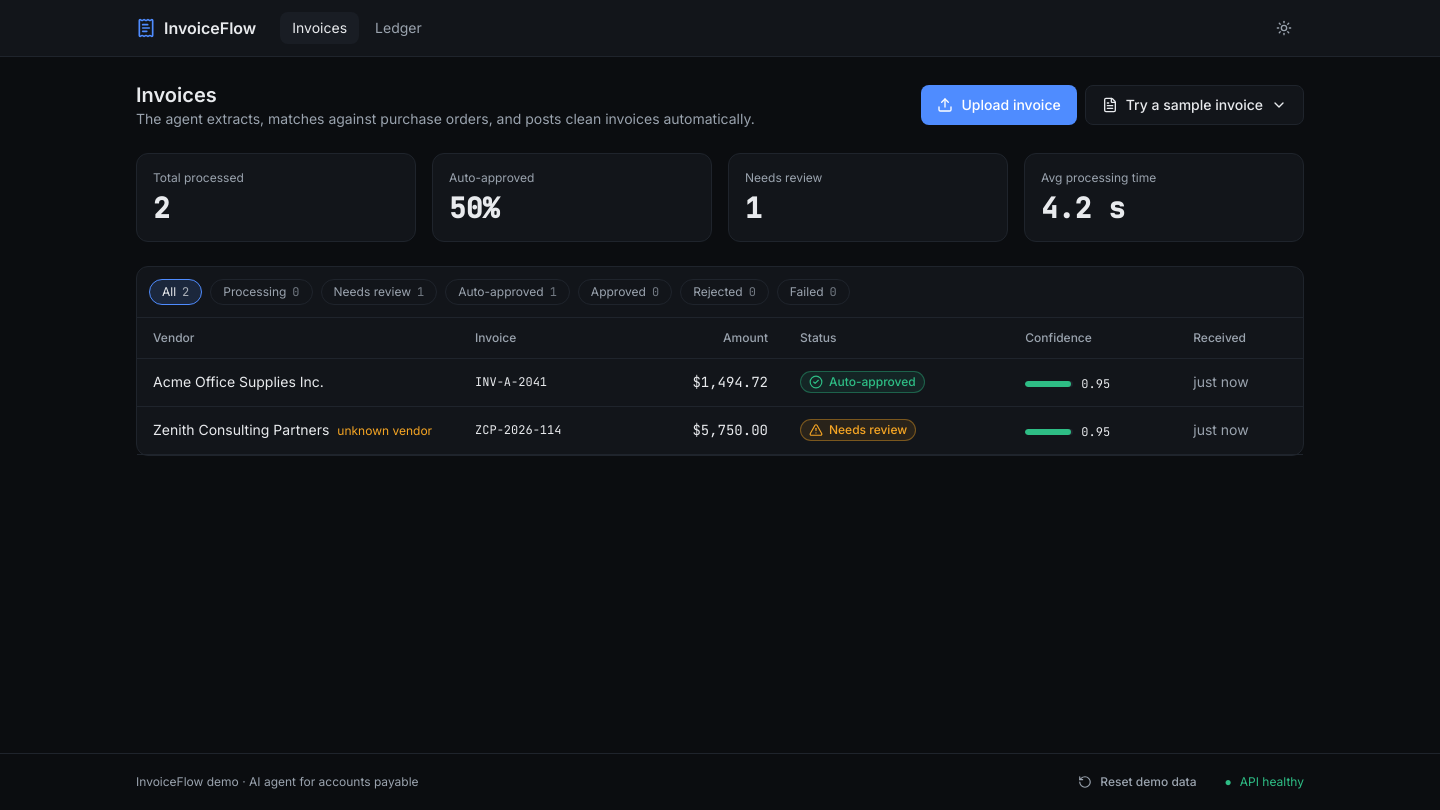
Test case: Dashboard › resets the demo data after confirmation
This screenshot has width=1440, height=810.
Step 1. Click the button "Reset demo data" → {"x": 1138, "y": 782}, box [1066,766,1209,798]
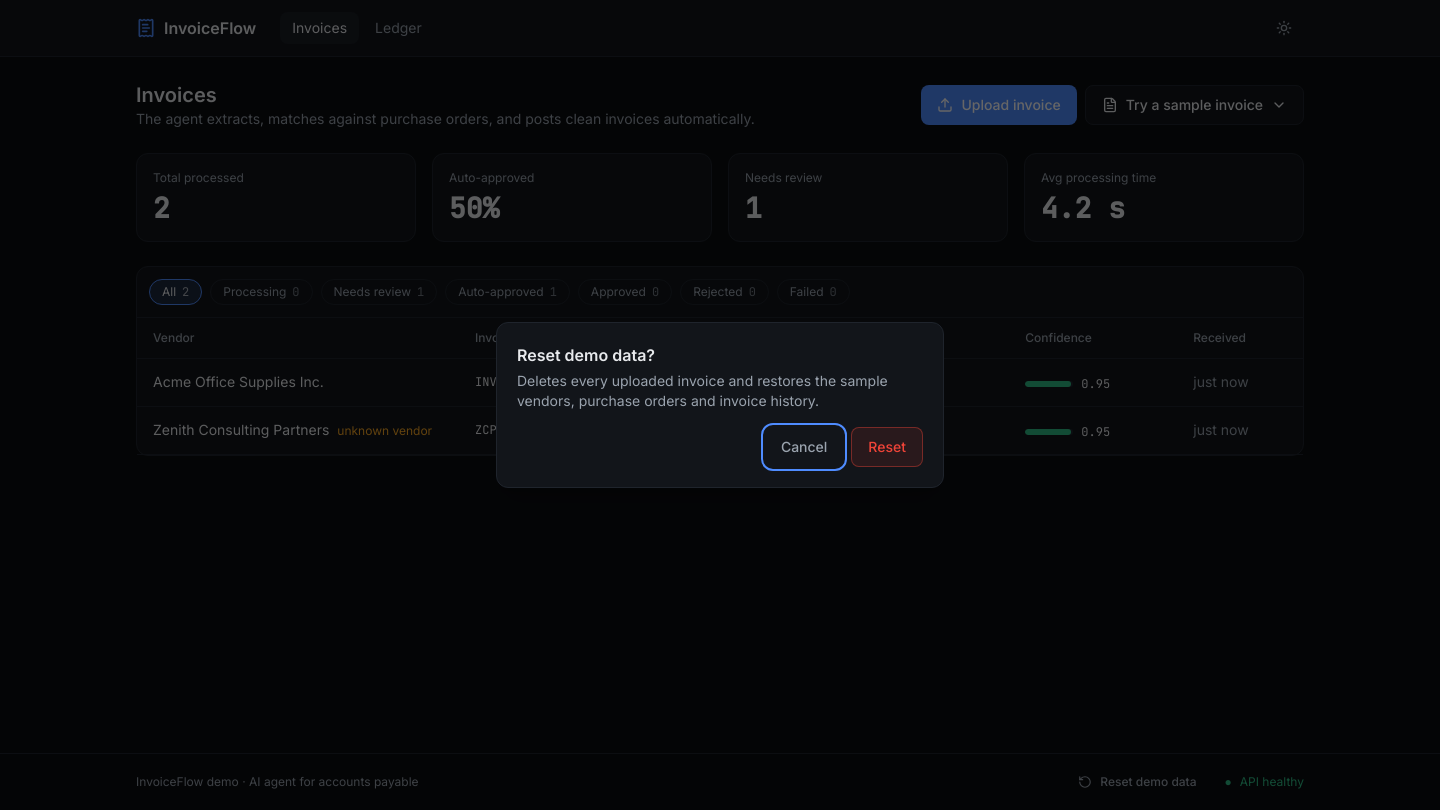
Step 2. Click the button "Reset" → {"x": 887, "y": 447}, box [851,427,923,467]
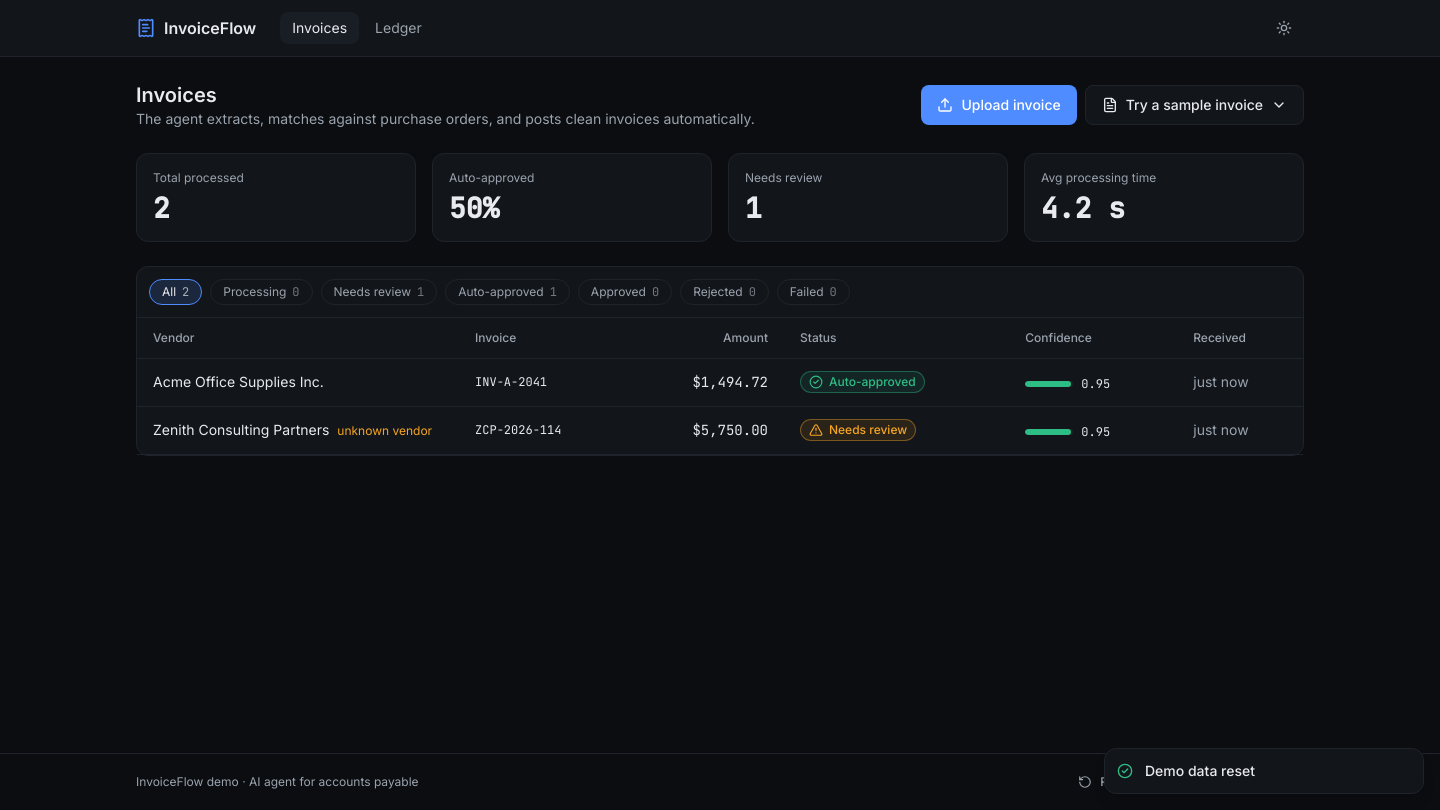
Now the text "Demo data reset" is shown, box [1145,761,1255,781]
